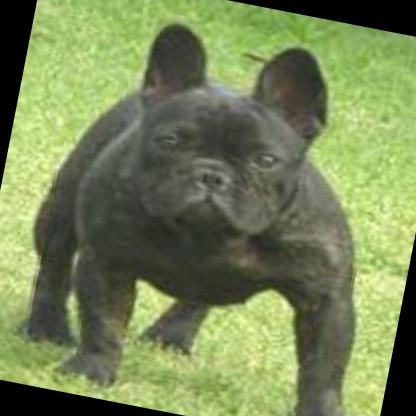French_bulldog: (3, 1, 416, 416)
